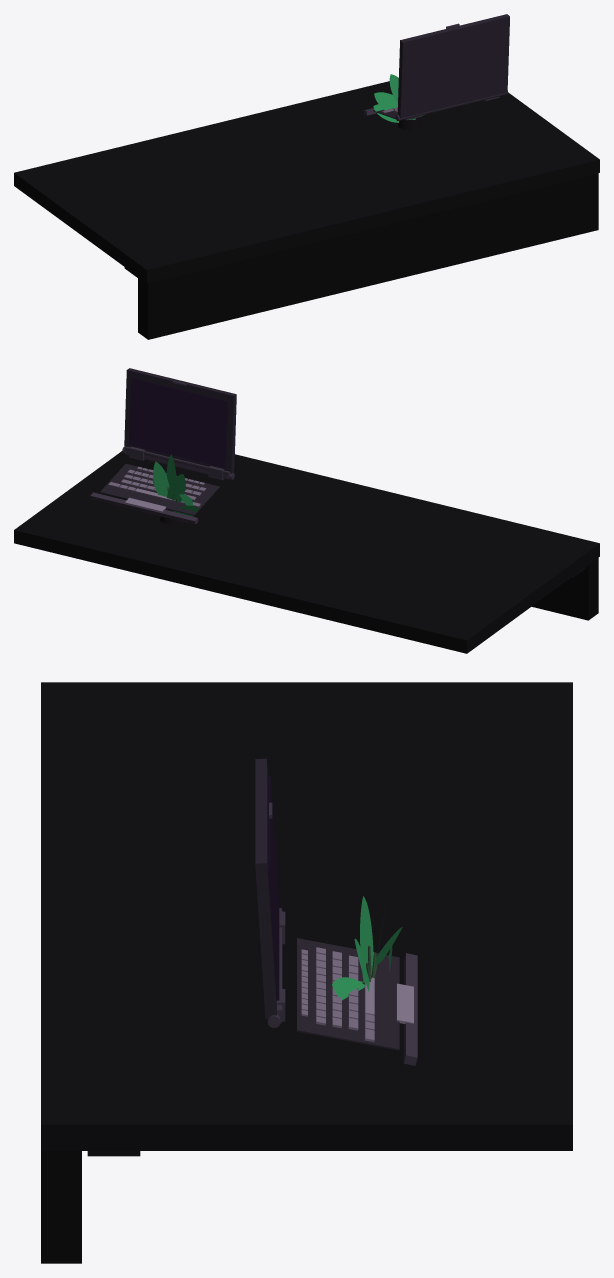
File: desk-plant-laptop.glb
The picture shows the model from 3 angles, top to bottom: view 1: azimuth 30°, elevation 25°; view 2: azimuth 150°, elevation 25°; view 3: azimuth 270°, elevation 25°; orthographic projection. The views are drawn at different scales.
Visible parts, largest first — view 1: desk_top, desk_front_panel, laptop_screen_back_panel; view 2: desk_top, laptop_screen_dark_display, laptop_screen_back_panel, desk_front_panel, laptop_keyboard_deck, laptop_base_front_lip, laptop_screen_bottom_bezel, plant_leaf_4; view 3: desk_top, laptop_keyboard_deck, desk_front_panel, laptop_screen_back_panel, laptop_screen_dark_display, laptop_base_front_lip.
Part boxes in pixels (left/top/right/bottom): desk_top: left=14, top=81, right=599, bottom=283; desk_front_panel: left=138, top=170, right=598, bottom=339; laptop_screen_back_panel: left=397, top=14, right=509, bottom=118; desk_top: left=14, top=451, right=599, bottom=653; laptop_screen_dark_display: left=129, top=378, right=228, bottom=468; laptop_screen_back_panel: left=124, top=368, right=236, bottom=473; desk_front_panel: left=531, top=558, right=598, bottom=620; laptop_keyboard_deck: left=100, top=463, right=219, bottom=515; laptop_base_front_lip: left=90, top=492, right=198, bottom=524; laptop_screen_bottom_bezel: left=124, top=446, right=230, bottom=478; plant_leaf_4: left=153, top=461, right=169, bottom=496; desk_top: left=41, top=682, right=572, bottom=1150; laptop_keyboard_deck: left=296, top=938, right=399, bottom=1050; desk_front_panel: left=41, top=1151, right=81, bottom=1263; laptop_screen_back_panel: left=255, top=758, right=276, bottom=1019; laptop_screen_dark_display: left=268, top=776, right=279, bottom=1000; laptop_base_front_lip: left=403, top=953, right=417, bottom=1065.
Size of the model in its own units: 3.58 by 1.39 by 1.82.
